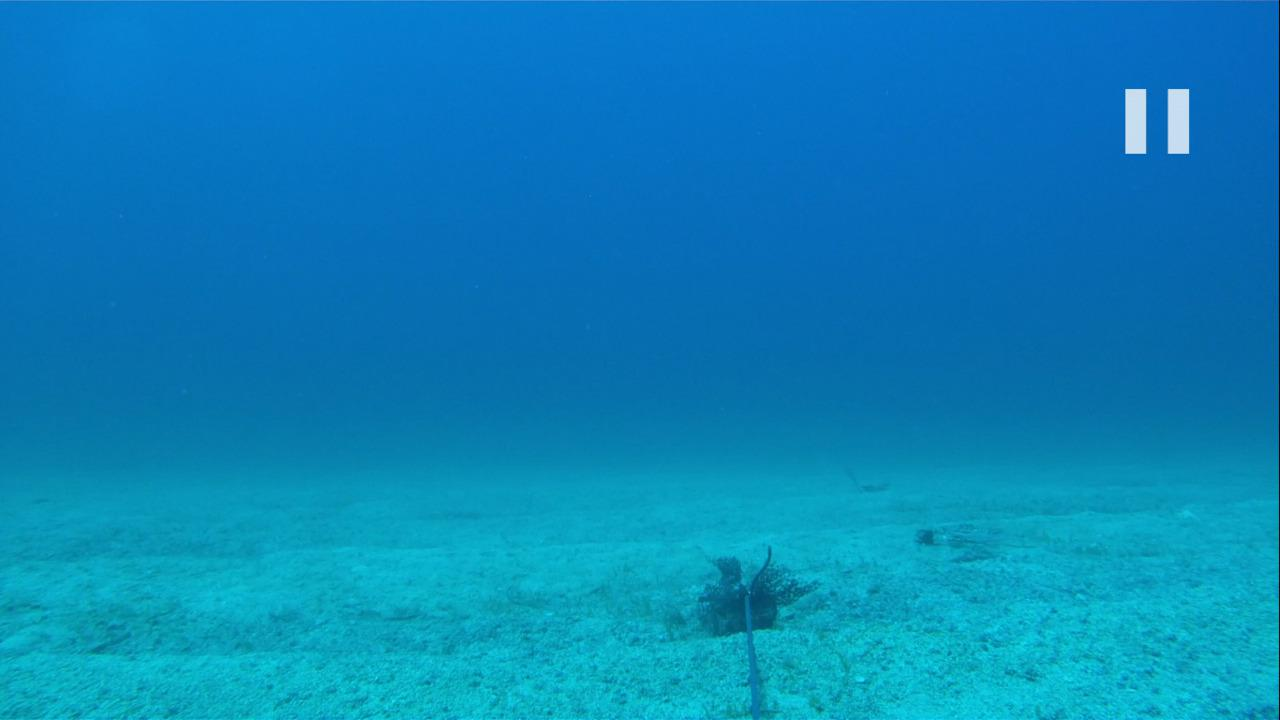dactylopterus: (908, 519, 1042, 565)
